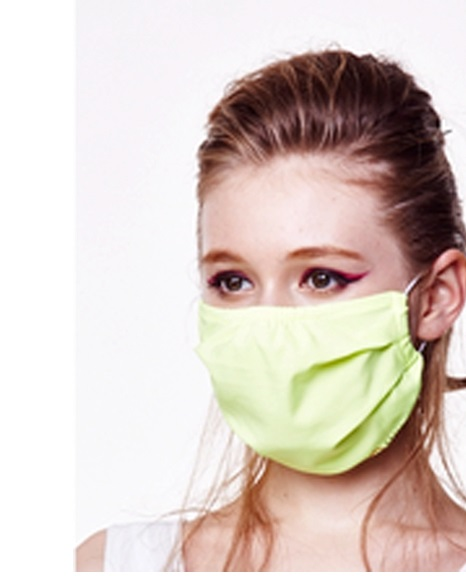face_mask: (194, 152, 407, 460)
